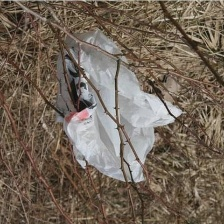plastic_bag: (48, 23, 186, 185)
